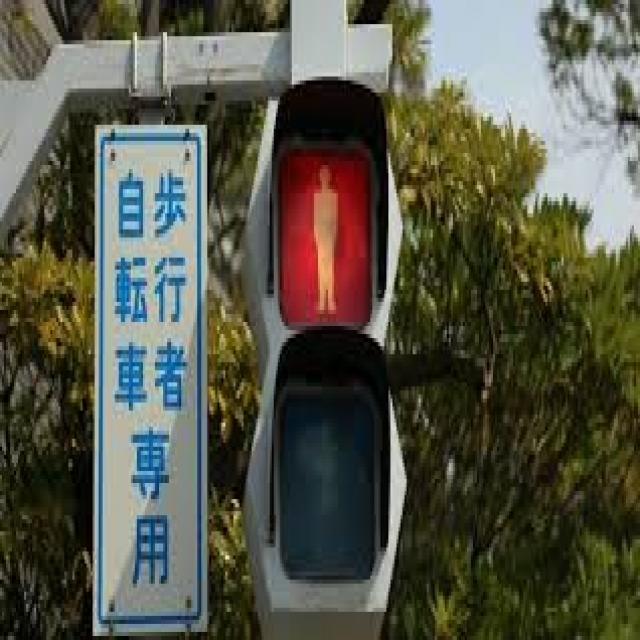trafficlight: (253, 76, 394, 604)
